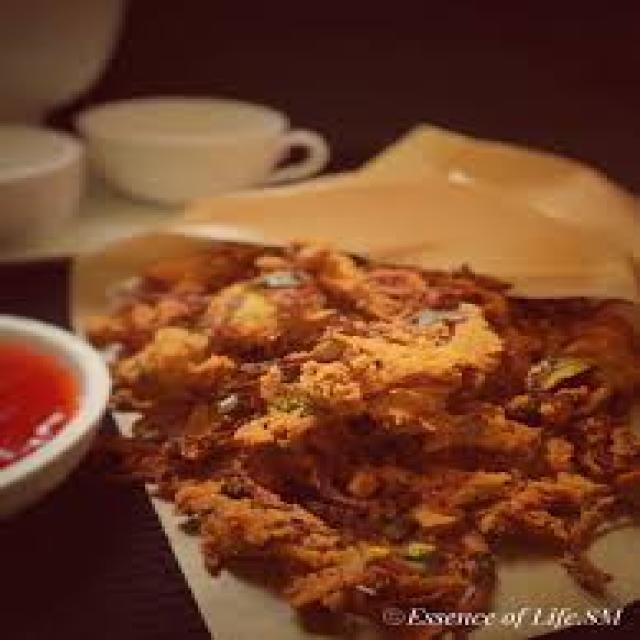BAJI: (115, 249, 637, 638)
